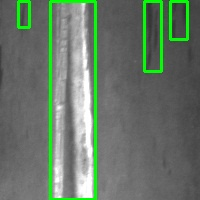inclusion: (144, 1, 161, 71), (170, 1, 187, 39), (18, 1, 29, 27)
scratches: (50, 1, 95, 199)
